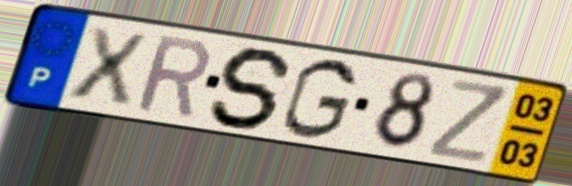8: (368, 70, 435, 153)
G: (278, 55, 361, 142)
R: (132, 32, 212, 122)
S: (206, 45, 298, 132)
X: (65, 23, 153, 108)
Z: (426, 76, 512, 167)
